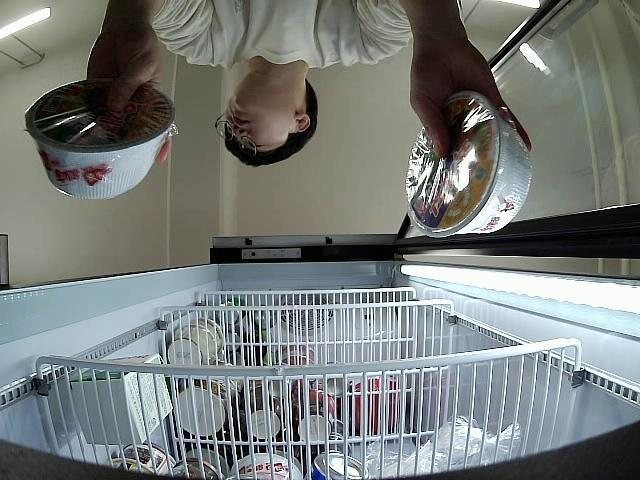09_yukGaeJang: (25, 75, 174, 200), (406, 93, 532, 238)
